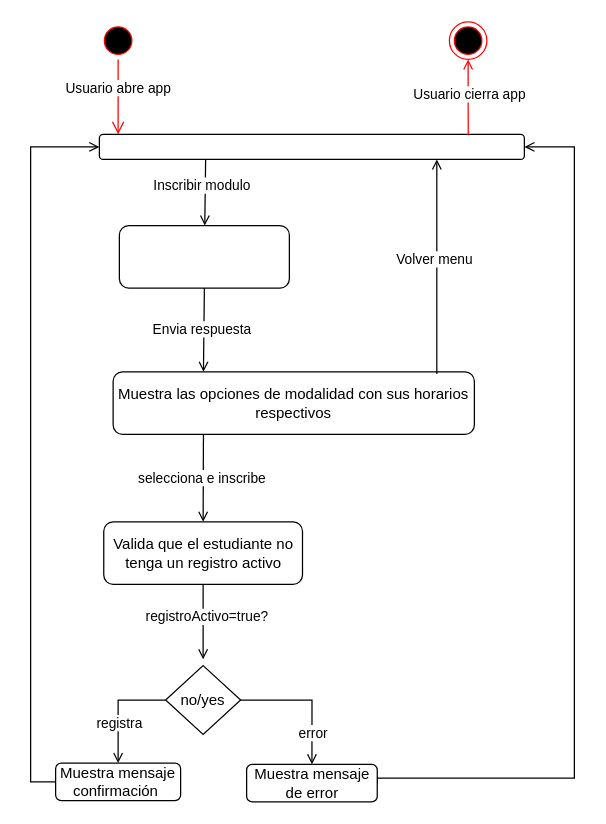
The diagram is 606 pixels wide and 824 high, and some of its shapes have lost their labels. The centre of each missing label's shape, as x and y in pixels:
"Se presentan acciones disponibles" goes at point 311,146.
"Valida disponibilidad de cupos para el modulo del estudiante" goes at point 203,256.
